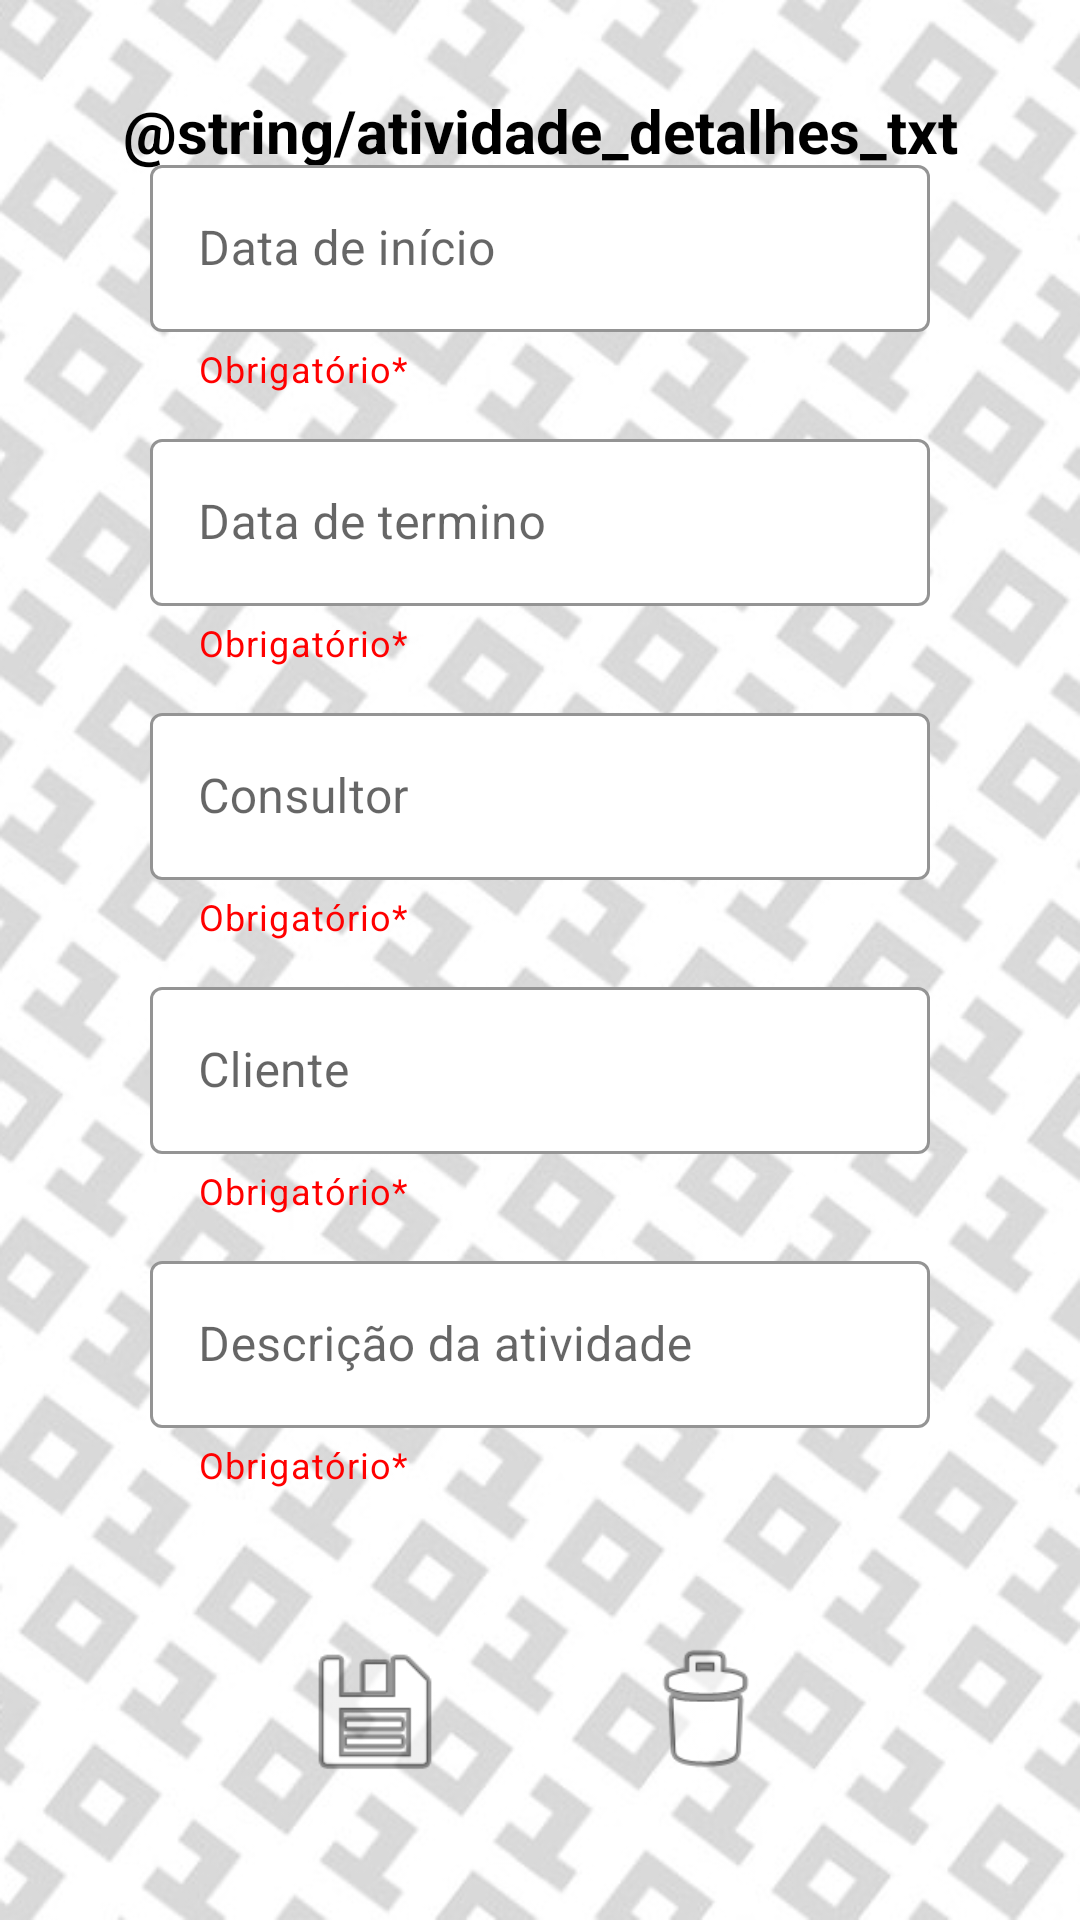

Point at icon controls on the screen. Image size 1080px x 1920px, points as (x,y).
delete: (705,1711)
save: (375,1711)
